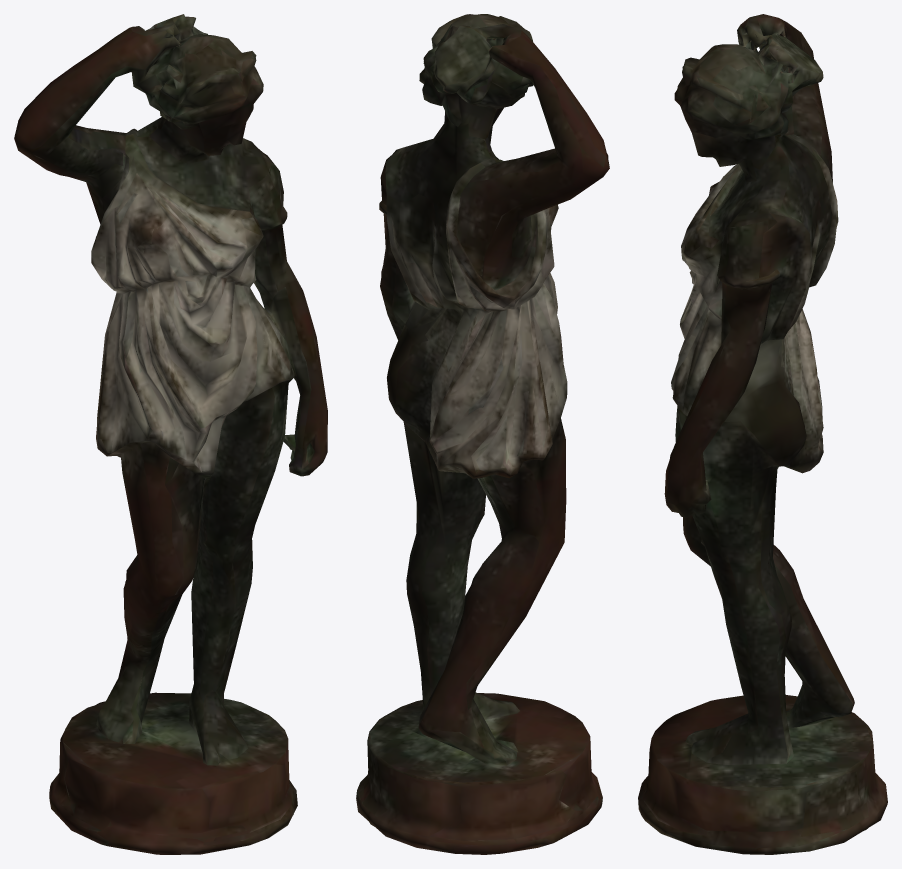
The model's file is baetulo-venus.glb.
The picture shows the model from 3 angles, left to right: view 1: azimuth 30°, elevation 25°; view 2: azimuth 150°, elevation 25°; view 3: azimuth 270°, elevation 25°; orthographic projection.
Visible parts, largest first — view 1: geometry_0; view 2: geometry_0; view 3: geometry_0.
Part boxes in pixels (left/top/right/bottom): geometry_0: left=14, top=14, right=327, bottom=854; geometry_0: left=356, top=14, right=609, bottom=854; geometry_0: left=638, top=14, right=887, bottom=854.
Size of the model in its own units: 0.346 by 1 by 0.2938.
Materials: 1 (1 with a texture image).
